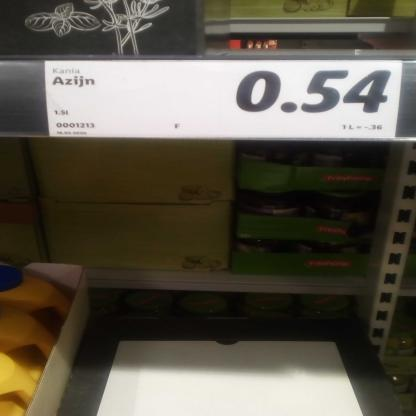prtg: (46, 62, 404, 140)
